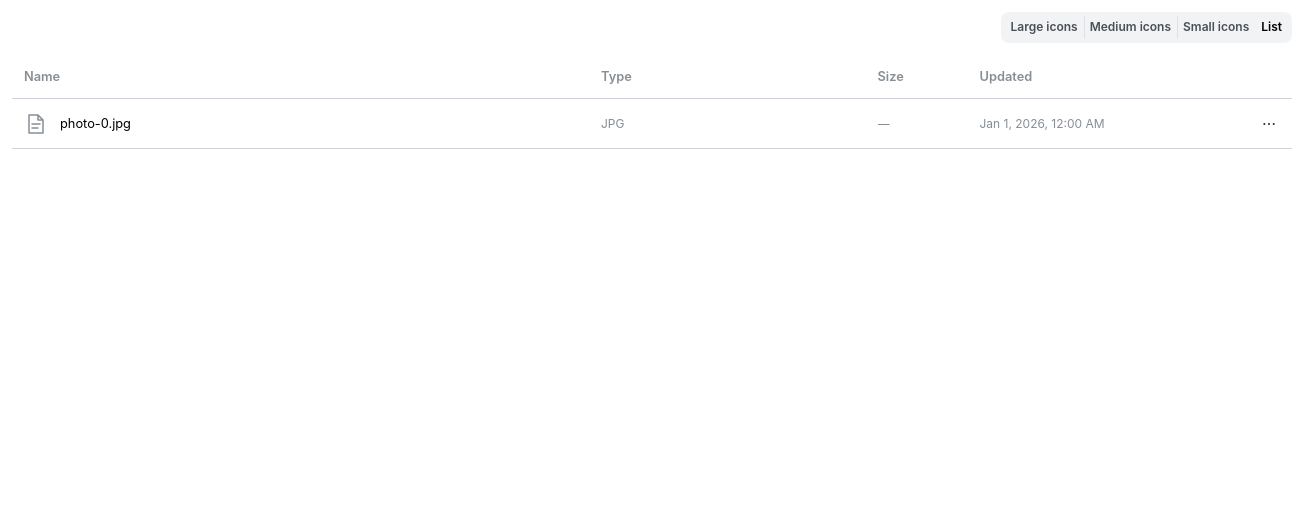
Test case: opens the same context menu from the list row action without opening the file
What coordinates should you click on to do the following:
click the button named "More actions"
I would click on:
 (1269, 124)
Its box is [1258,113,1280,135].
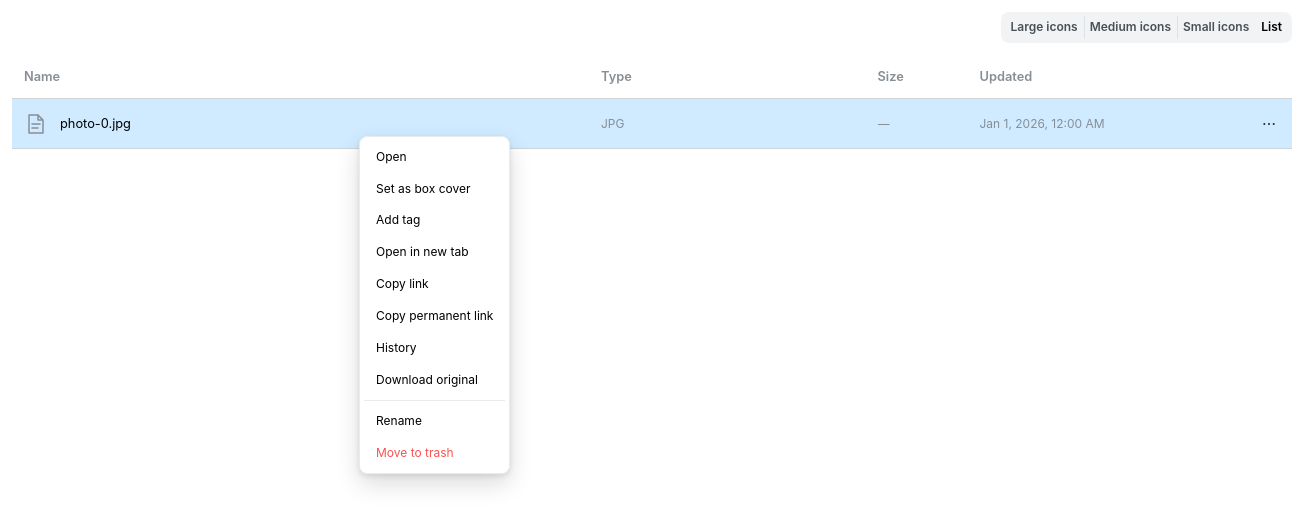
Check: the button named "More actions" is expanded, box [1258,113,1280,135]
Check: the menu item "Rename" is shown, box [364,405,506,437]
Check: the menu item "Move to trash" is shown, box [364,437,506,469]
What coordinates should you click on to do the following:
click the menu item "Open"
I would click on:
 (435, 157)
Its box is [364,141,506,173].
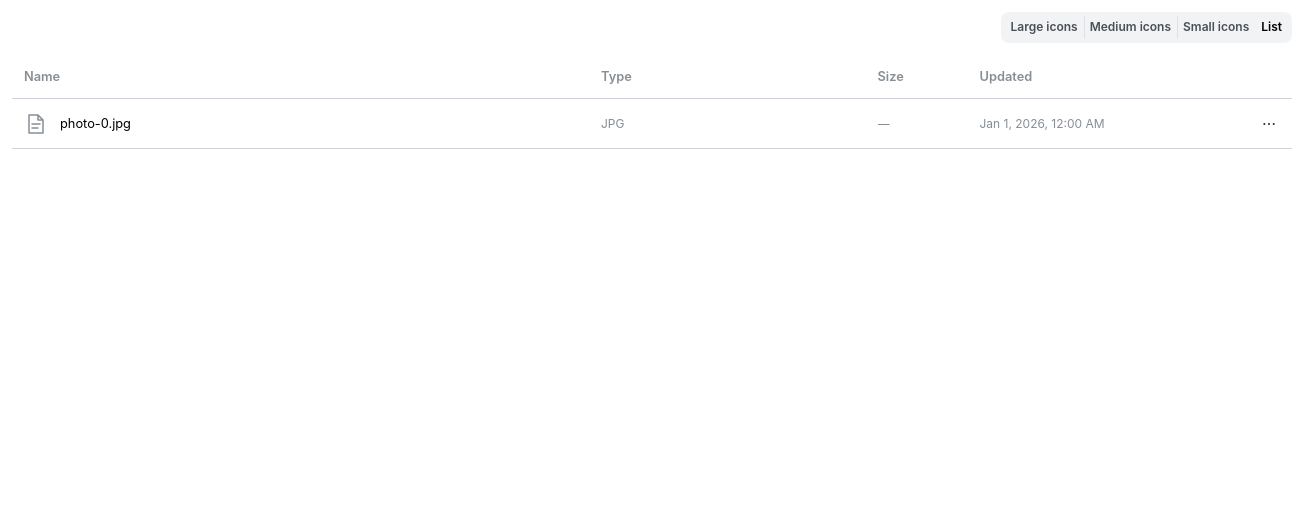
Check: the button named "More actions" is collapsed, box [1258,113,1280,135]
